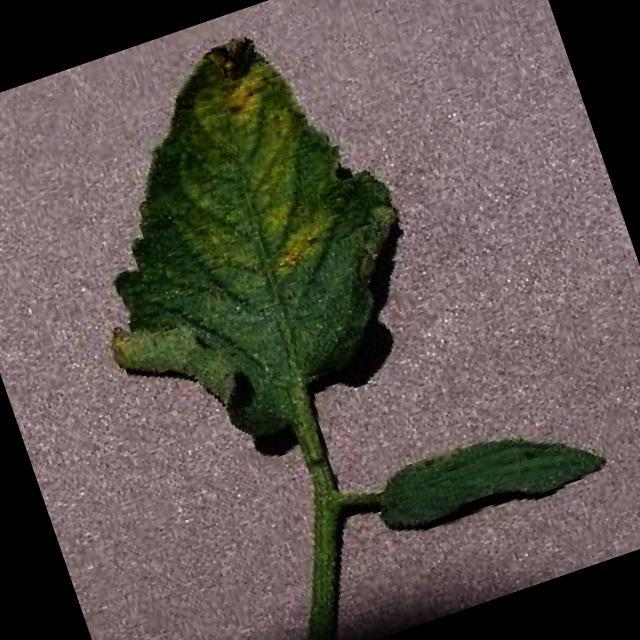Tomato Septoria spot leaf: (28, 4, 450, 469)
